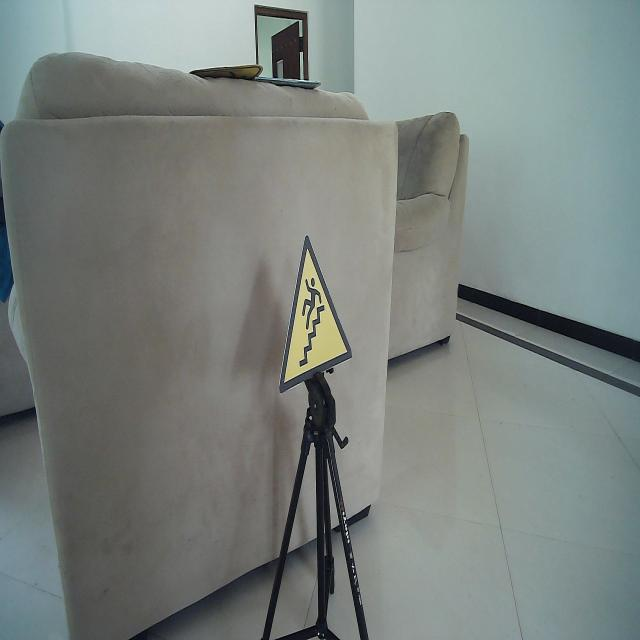stairs: (278, 232, 353, 396)
